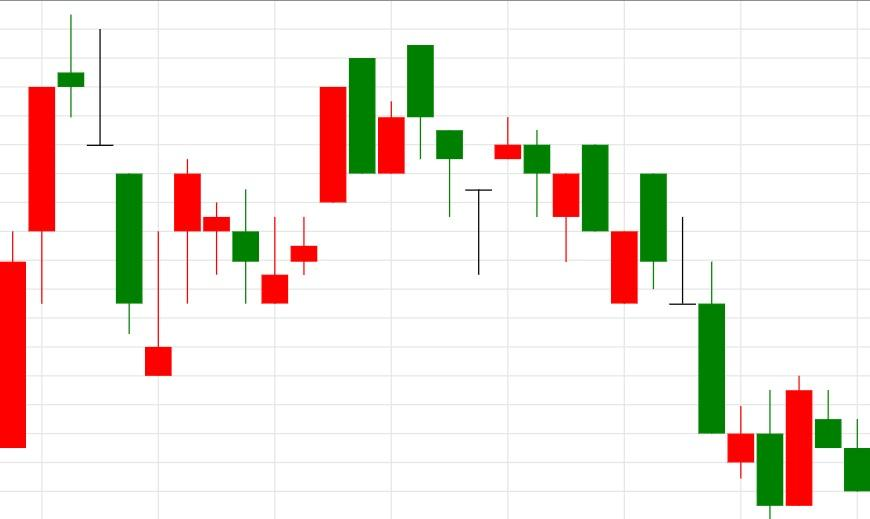inverse_hammer_rise: (57, 13, 173, 378)
three_white_soldiers_rise: (173, 86, 348, 304)
